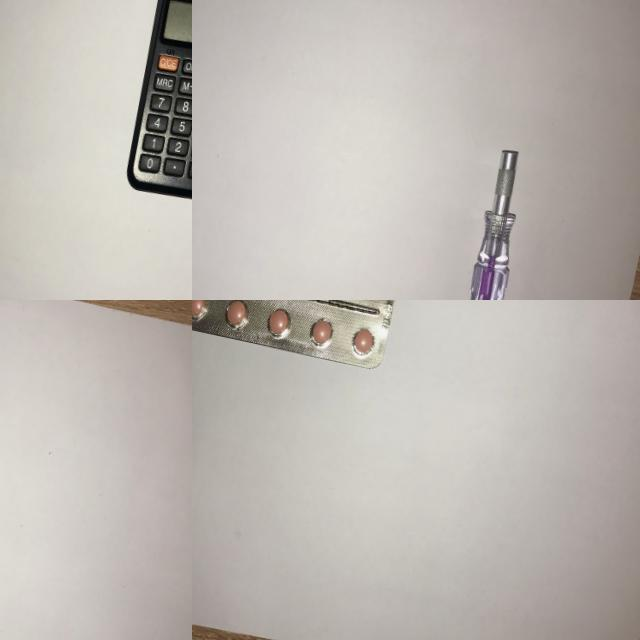calculator: (107, 0, 192, 219)
screwdriver: (434, 133, 554, 300)
tablets: (192, 300, 411, 381)
